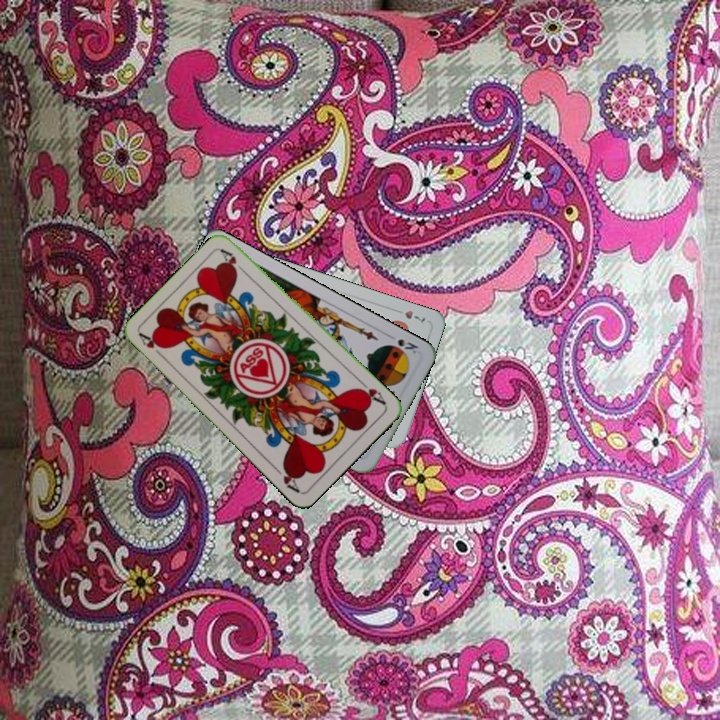H7: (390, 305, 428, 325)
HA: (353, 376, 389, 408), (135, 329, 168, 362)
SK: (393, 335, 421, 356)
